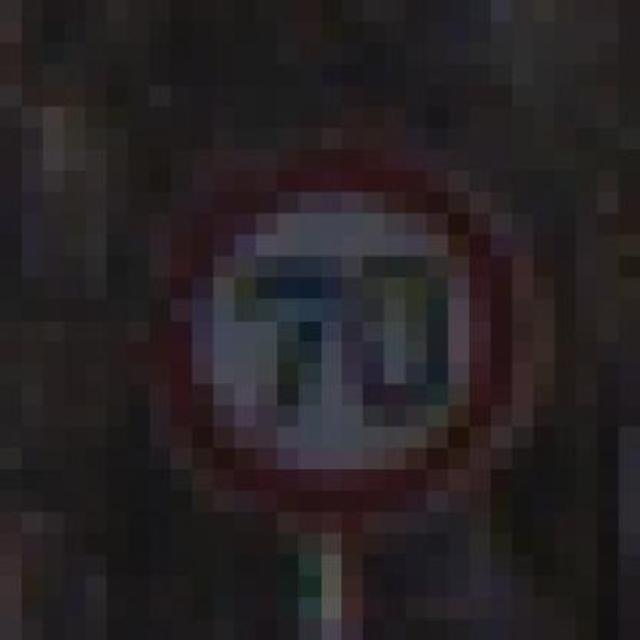forb_speed_over_70: (154, 148, 526, 515)
